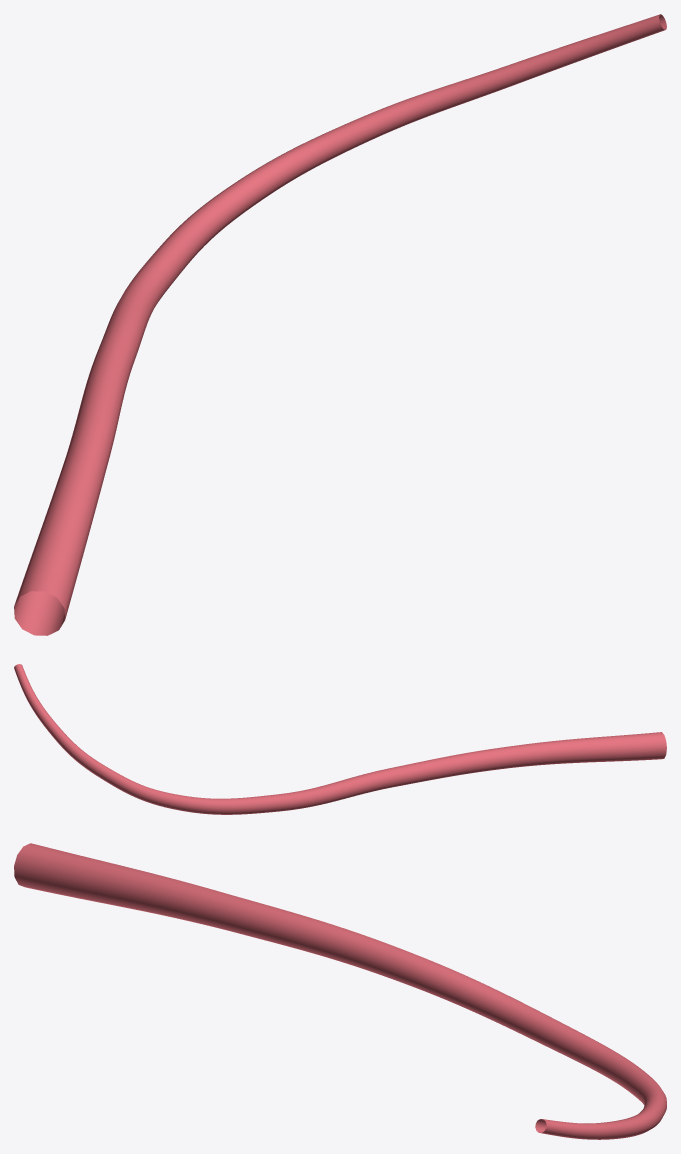
The picture shows the model from 3 angles, top to bottom: view 1: azimuth 30°, elevation 25°; view 2: azimuth 150°, elevation 25°; view 3: azimuth 270°, elevation 25°; orthographic projection. The views are drawn at different scales.
Visible parts, largest first — view 1: ZA_df0c3c97a69e6fc3; view 2: ZA_df0c3c97a69e6fc3; view 3: ZA_df0c3c97a69e6fc3.
Boxes of the visible parts, bbox=[...] form: ZA_df0c3c97a69e6fc3: bbox=[14, 14, 666, 635]; ZA_df0c3c97a69e6fc3: bbox=[14, 664, 666, 814]; ZA_df0c3c97a69e6fc3: bbox=[14, 843, 666, 1139].
Size of the model in its own units: 0.0517 by 0.00913 by 0.0362.
